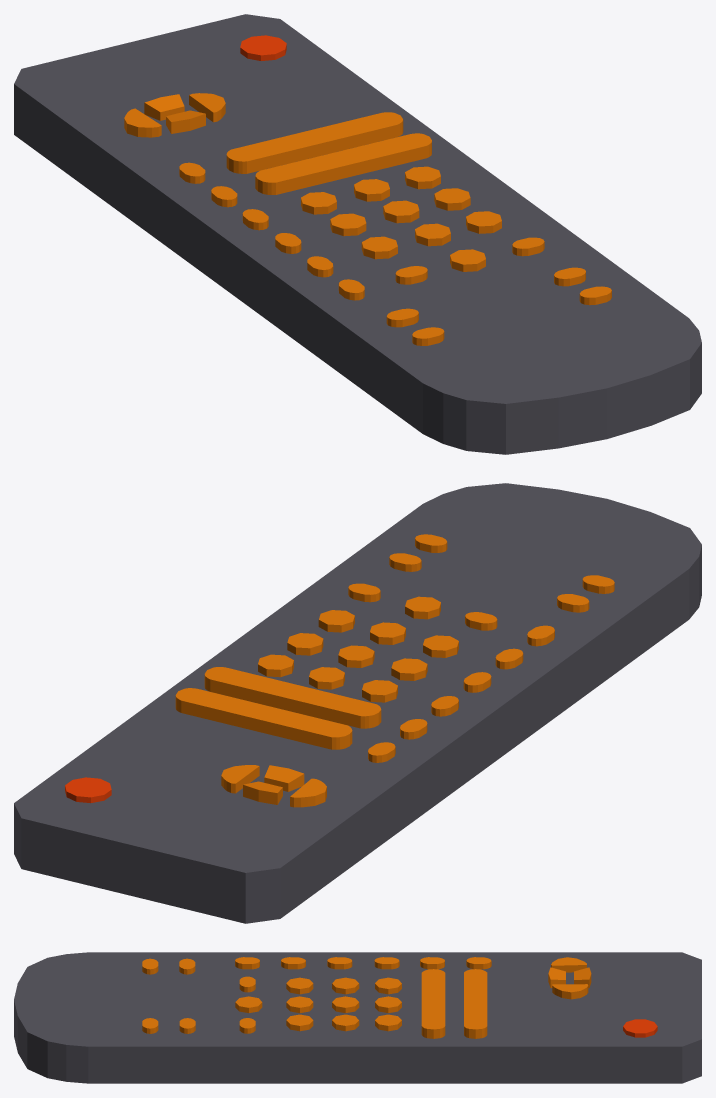
Rendered from Controltv.fbx.
3 renders of one model, top to bottom at view 1: azimuth 30°, elevation 25°; view 2: azimuth 150°, elevation 25°; view 3: azimuth 270°, elevation 25°, orthographic. The views are drawn at different scales.
Visible parts, largest first — view 1: telecommande corps, telecommande boutons, telecomande bouton on off; view 2: telecommande corps, telecommande boutons, telecomande bouton on off; view 3: telecommande corps, telecommande boutons, telecomande bouton on off.
Boxes of the visible parts, bbox=[...] form: telecommande corps: bbox=[14, 14, 701, 454]; telecommande boutons: bbox=[124, 93, 611, 345]; telecomande bouton on off: bbox=[240, 35, 286, 60]; telecommande corps: bbox=[14, 483, 701, 923]; telecommande boutons: bbox=[175, 534, 614, 807]; telecomande bouton on off: bbox=[65, 777, 111, 803]; telecommande corps: bbox=[14, 952, 701, 1083]; telecommande boutons: bbox=[142, 957, 591, 1038]; telecomande bouton on off: bbox=[623, 1019, 657, 1037].
Bounding box in the file's own units: 95.05 × 21.81 × 293.
